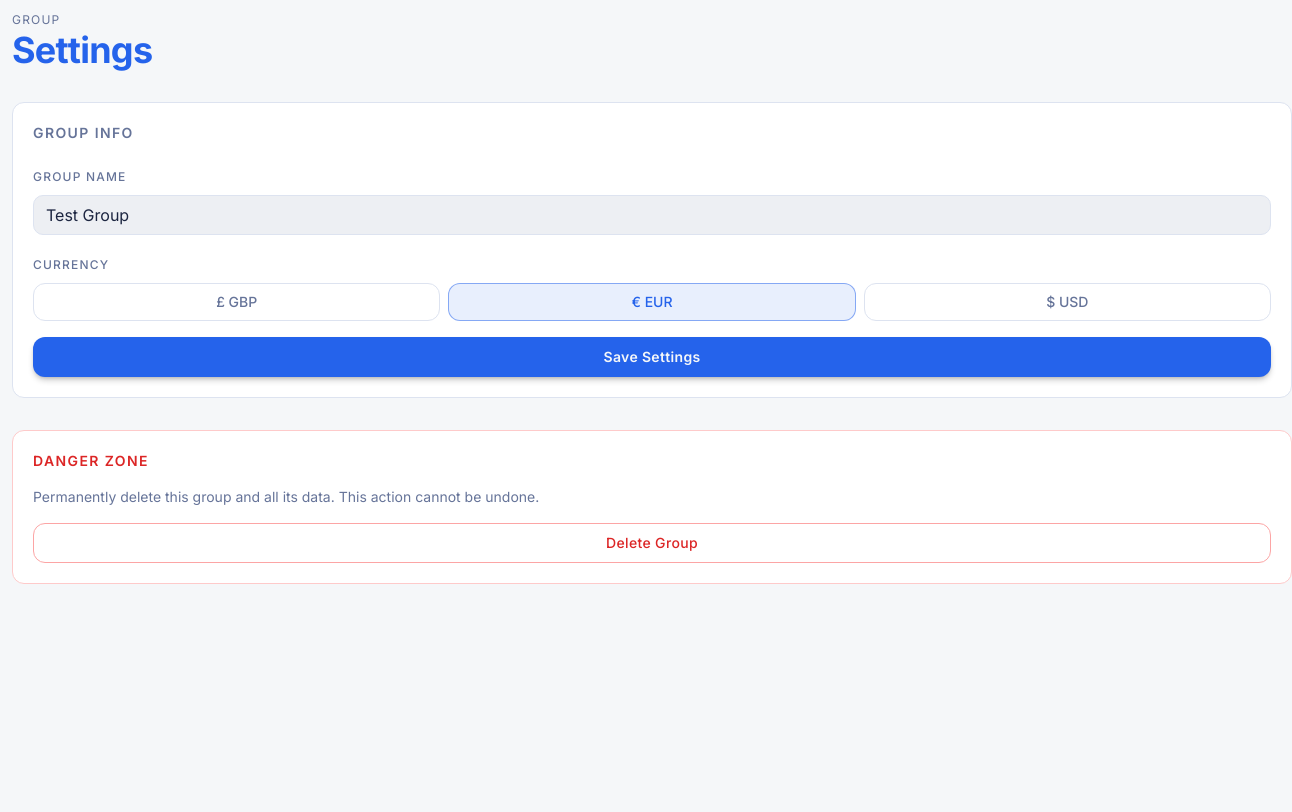
Test: Settings page › shows confirmation dialog when Delete Group is clicked
The width and height of the screenshot is (1292, 812).
Click the button "Delete Group" at point(652, 543), box x1=33 y1=523 x2=1271 y2=563
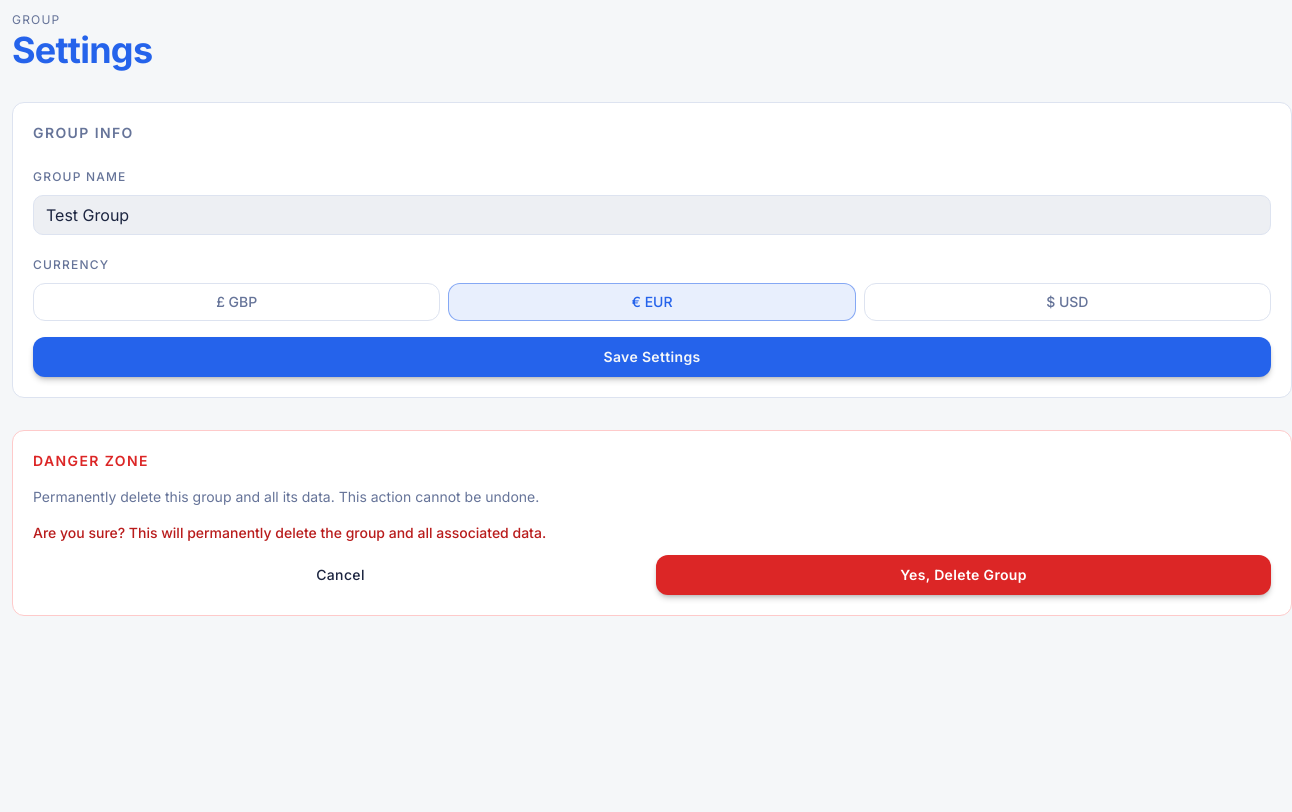
expect the text "Are you sure" is shown: met, box x1=33 y1=524 x2=546 y2=541
expect the button "Yes, Delete Group" is shown: met, box x1=656 y1=555 x2=1271 y2=595
expect the button "Cancel" is shown: met, box x1=33 y1=555 x2=648 y2=595
